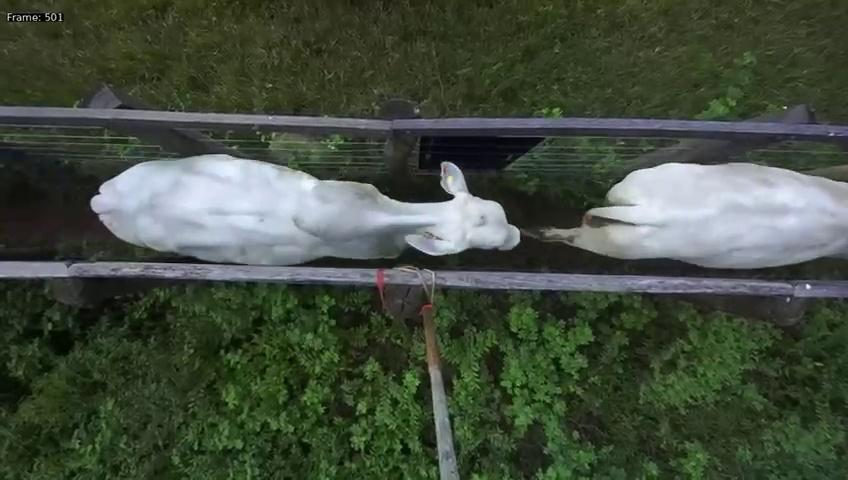cattle: (93, 148, 521, 265)
